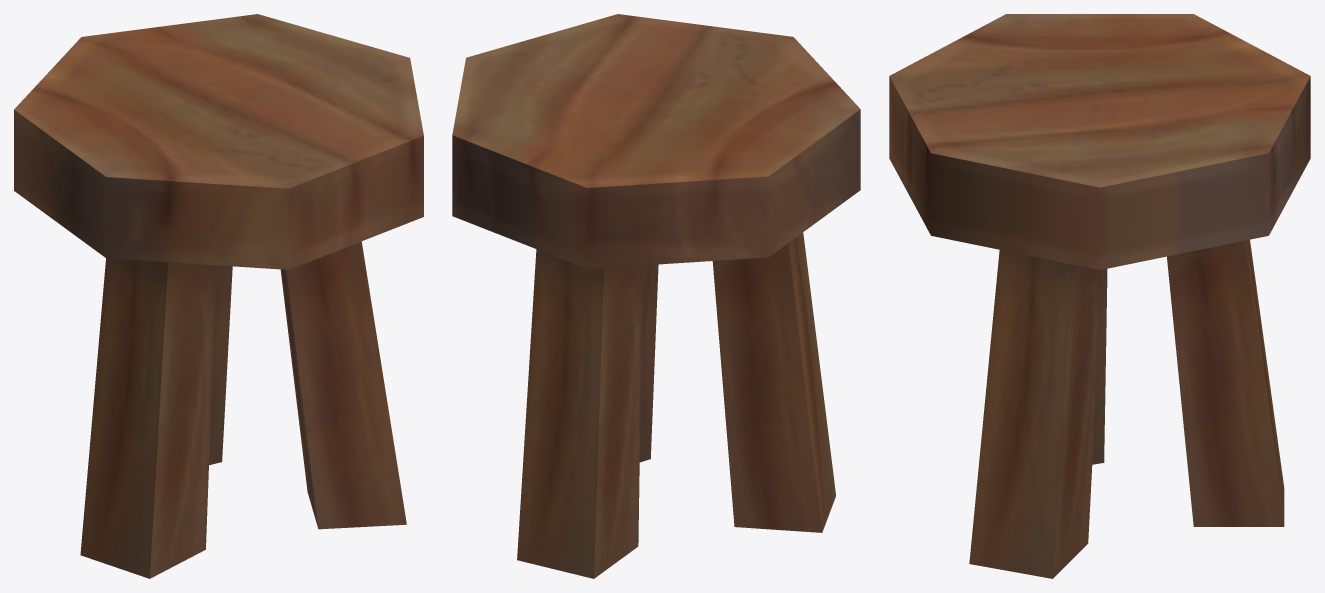
File: furnitureSet_chair.FBX
3 renders of one model, left to right at view 1: azimuth 30°, elevation 25°; view 2: azimuth 150°, elevation 25°; view 3: azimuth 270°, elevation 25°, orthographic. The views are drawn at different scales.
Visible parts, largest first — view 1: furnitureSet_chair; view 2: furnitureSet_chair; view 3: furnitureSet_chair.
Boxes of the visible parts, box(x1,y1,x2,y2) form: furnitureSet_chair: box(14, 14, 423, 578); furnitureSet_chair: box(452, 14, 860, 578); furnitureSet_chair: box(889, 14, 1310, 578).
Bounding box in the file's own units: 30.68 × 33.78 × 31.47.
Materials: 1 (1 with a texture image).
